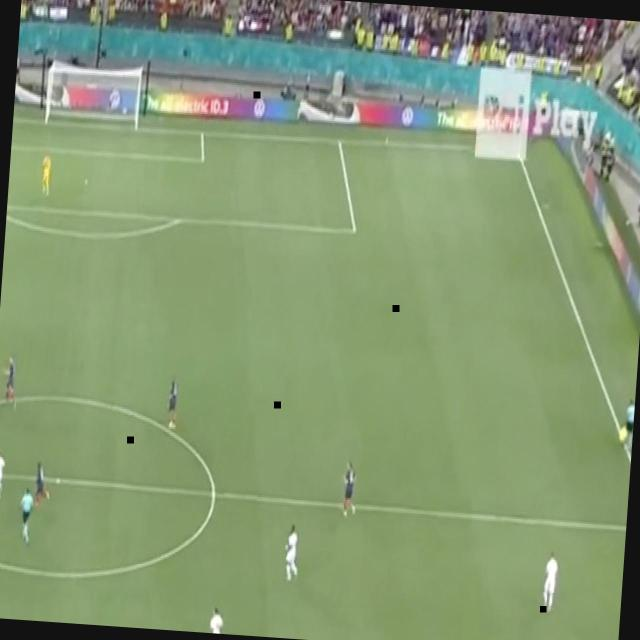player-white: (339, 455, 361, 521), (31, 452, 54, 513), (541, 546, 561, 616), (283, 522, 303, 588), (17, 484, 37, 548), (1, 352, 22, 409), (617, 392, 635, 452), (164, 375, 180, 433), (38, 148, 54, 197), (207, 606, 226, 634), (0, 448, 8, 504), (0, 352, 2, 410)
